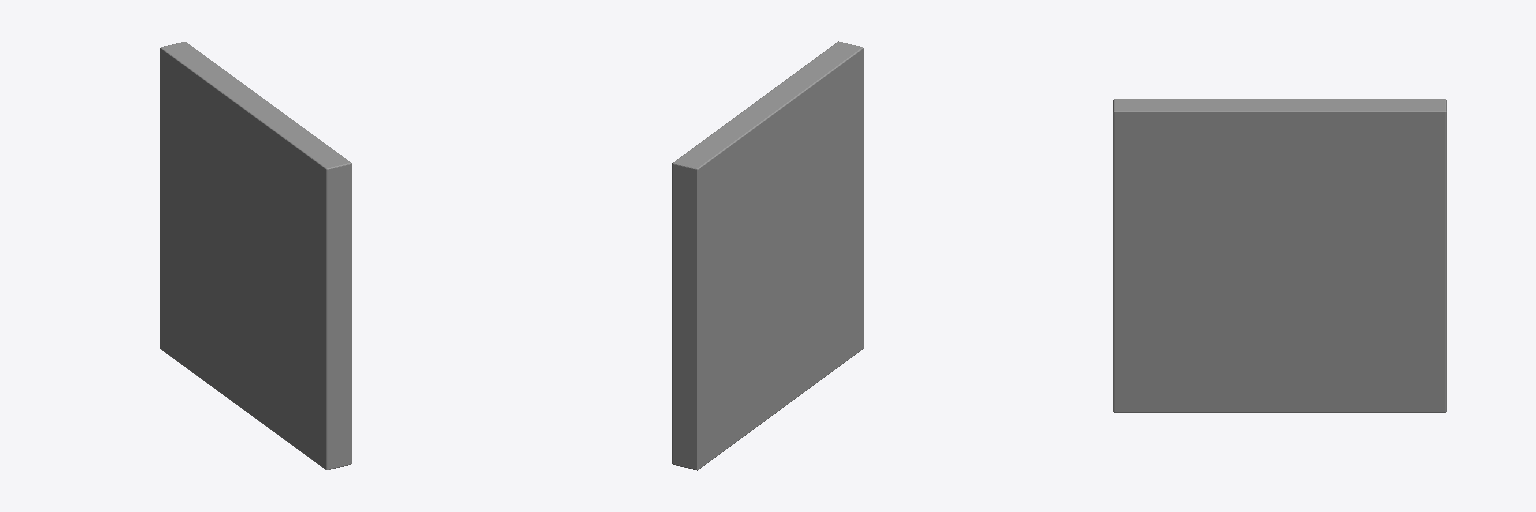
Rendered from canvas.obj.
3 views of the same model, side by side, from view 1: azimuth 30°, elevation 25°; view 2: azimuth 150°, elevation 25°; view 3: azimuth 270°, elevation 25° (orthographic).
Parts seen in each view (by area): view 1: canvas_Cube.008; view 2: canvas_Cube.008; view 3: canvas_Cube.008.
Part boxes in pixels (bbox=[...]): canvas_Cube.008: bbox=[160, 42, 351, 469]; canvas_Cube.008: bbox=[672, 41, 863, 470]; canvas_Cube.008: bbox=[1113, 99, 1446, 412].
Size of the model in its own units: 0.0652 by 0.7203 by 0.7203.